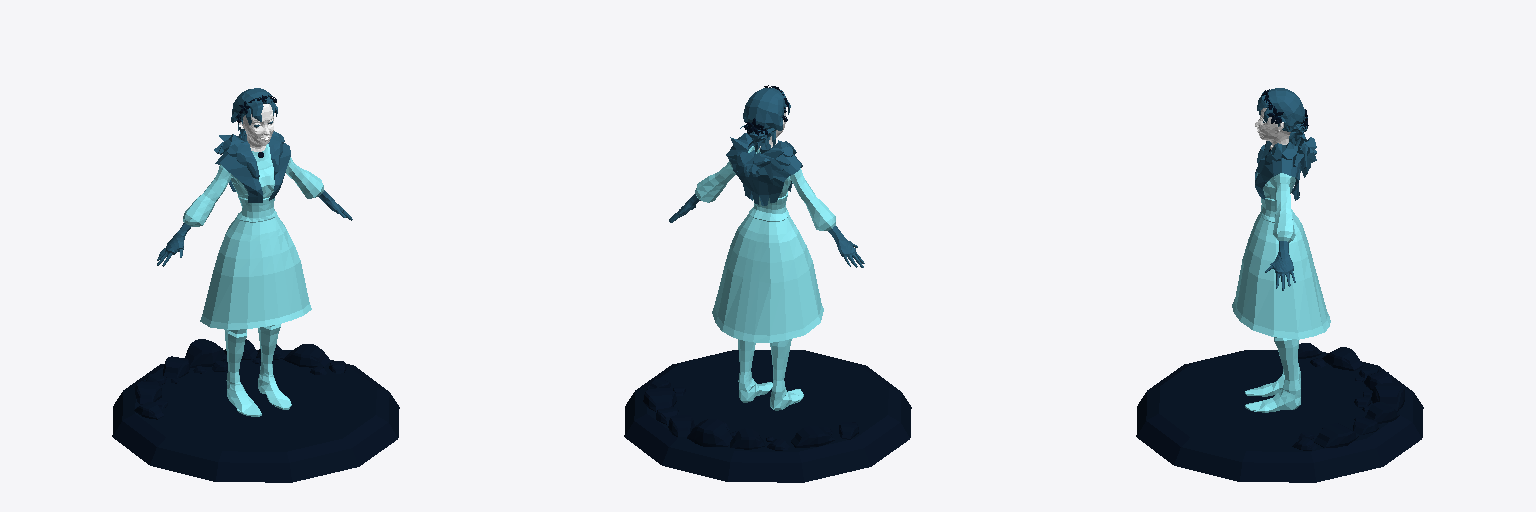
File: Snow_Low.obj
3 renders of one model, left to right at view 1: azimuth 30°, elevation 25°; view 2: azimuth 150°, elevation 25°; view 3: azimuth 270°, elevation 25°, orthographic.
Parts seen in each view (by area): view 1: Snow_Low; view 2: Snow_Low; view 3: Snow_Low.
Boxes of the visible parts, x1=… form: Snow_Low: x1=112, y1=88, x2=399, y2=482; Snow_Low: x1=624, y1=85, x2=911, y2=482; Snow_Low: x1=1136, y1=88, x2=1423, y2=482.
Bounding box in the file's own units: 13.43 × 17.14 × 13.43.